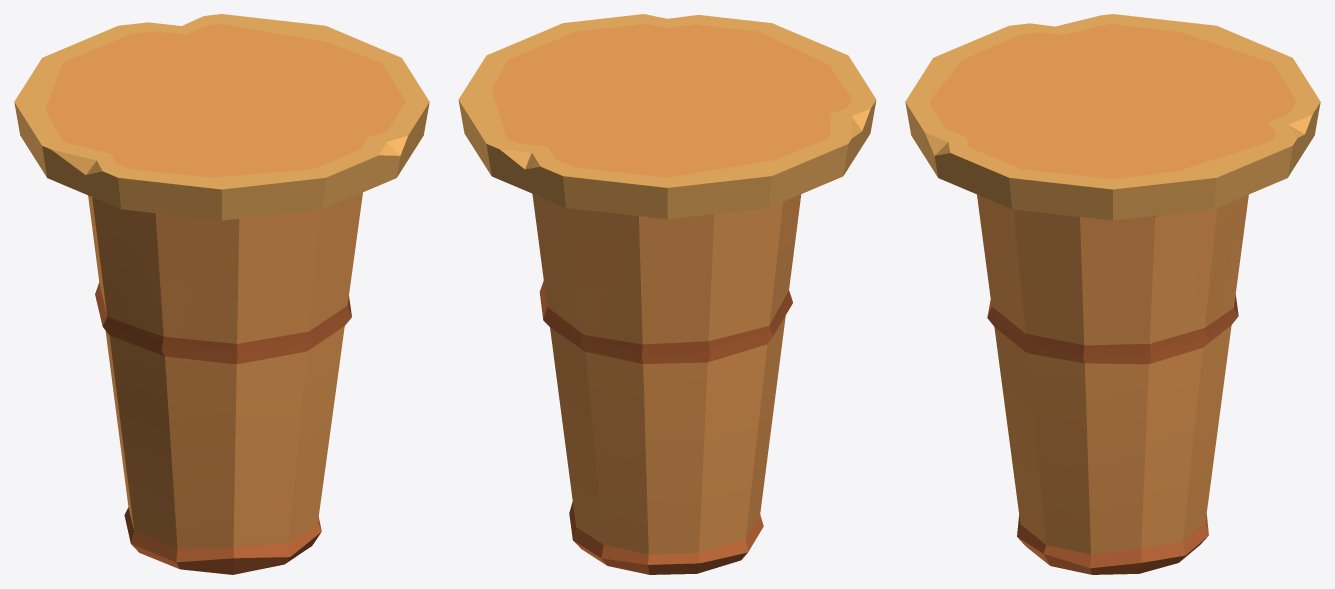
File: SM_Prop_Cafe_Table_Outdoor_03.fbx
3 renders of one model, left to right at view 1: azimuth 30°, elevation 25°; view 2: azimuth 150°, elevation 25°; view 3: azimuth 270°, elevation 25°, orthographic.
Parts seen in each view (by area): view 1: SM_Prop_Cafe_Table_Outdoor_01; view 2: SM_Prop_Cafe_Table_Outdoor_01; view 3: SM_Prop_Cafe_Table_Outdoor_01.
Boxes of the visible parts, left/top/right/bottom form: SM_Prop_Cafe_Table_Outdoor_01: left=14, top=14, right=429, bottom=574; SM_Prop_Cafe_Table_Outdoor_01: left=458, top=14, right=876, bottom=574; SM_Prop_Cafe_Table_Outdoor_01: left=905, top=14, right=1320, bottom=574.
Bounding box in the file's own units: 84.97 × 98.3 × 84.97.
